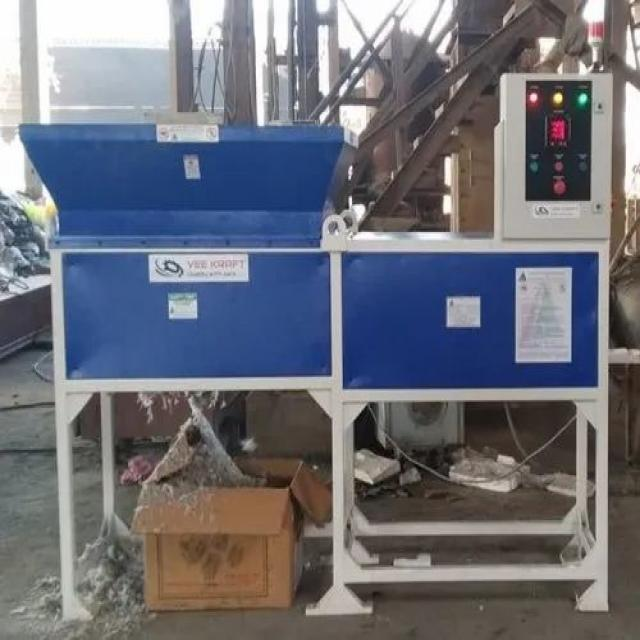Broyeur: (20, 115, 358, 248)
